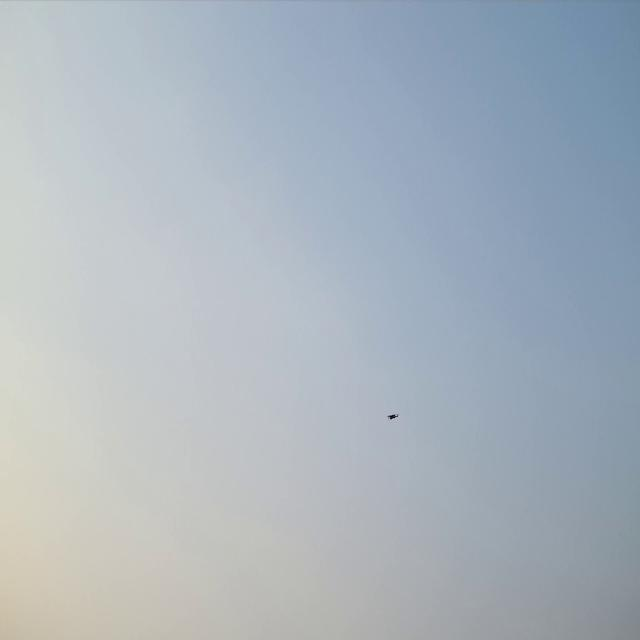UAV: (386, 410, 400, 422)
